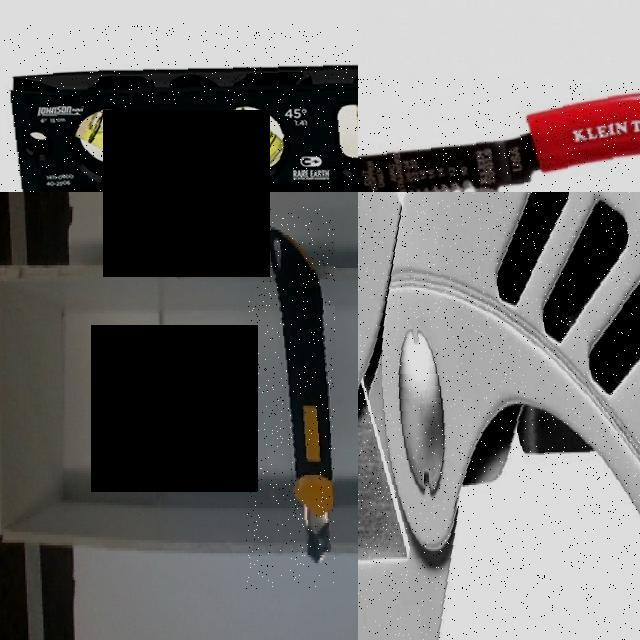estilete: (271, 228, 333, 561)
